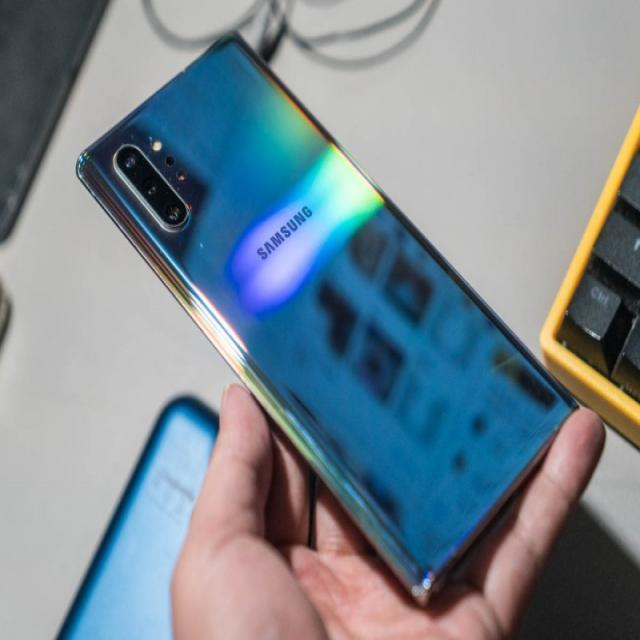phone: (69, 30, 580, 610)
